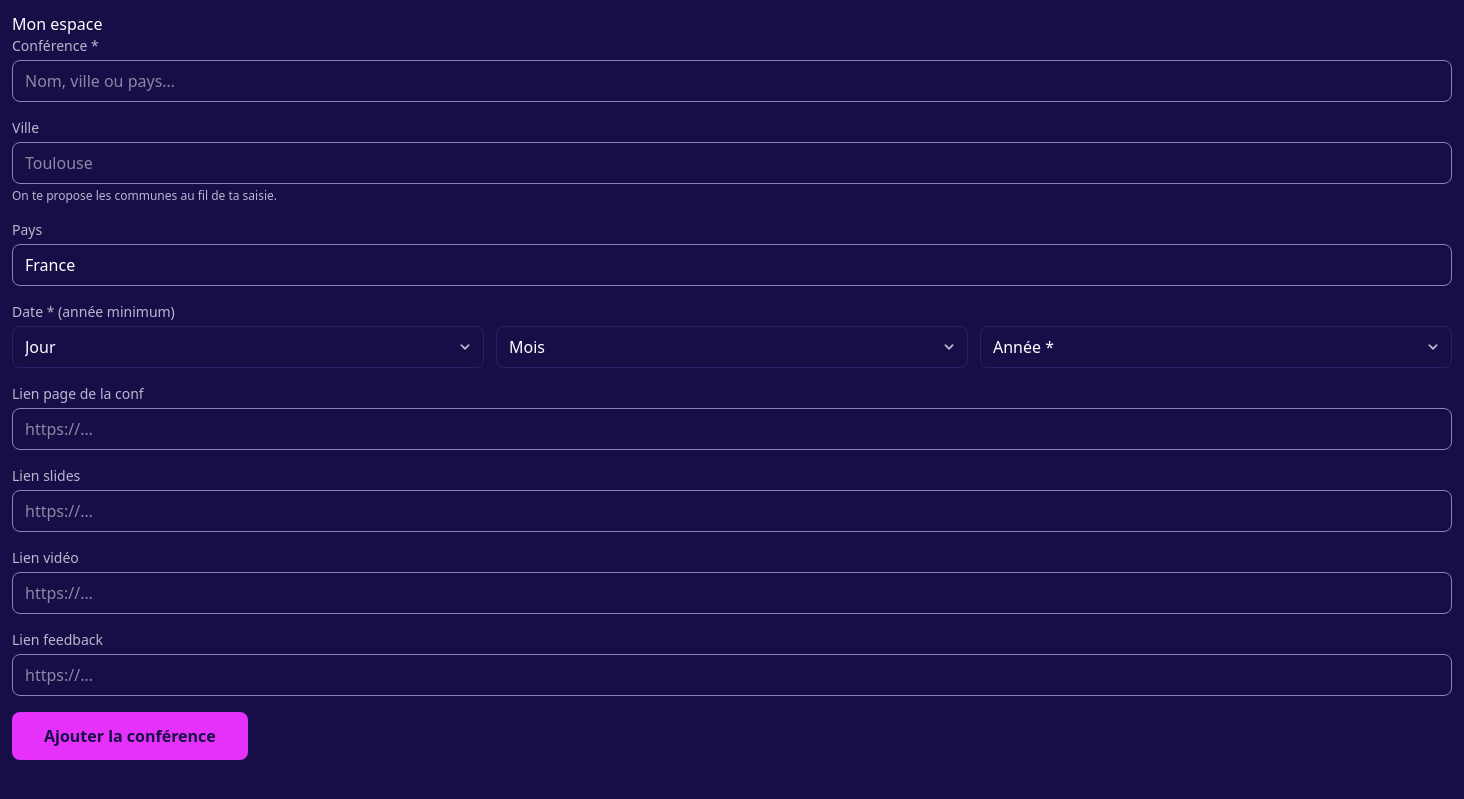
it: a11y (axe) — surfaces connectées de l'espace › OccurrenceForm (conférence hors registre : le champ nom est ouvert)
The image size is (1464, 799).
Click the dropdown labelled "Conférence *".
click(732, 81)  # box [12,60,1452,102]
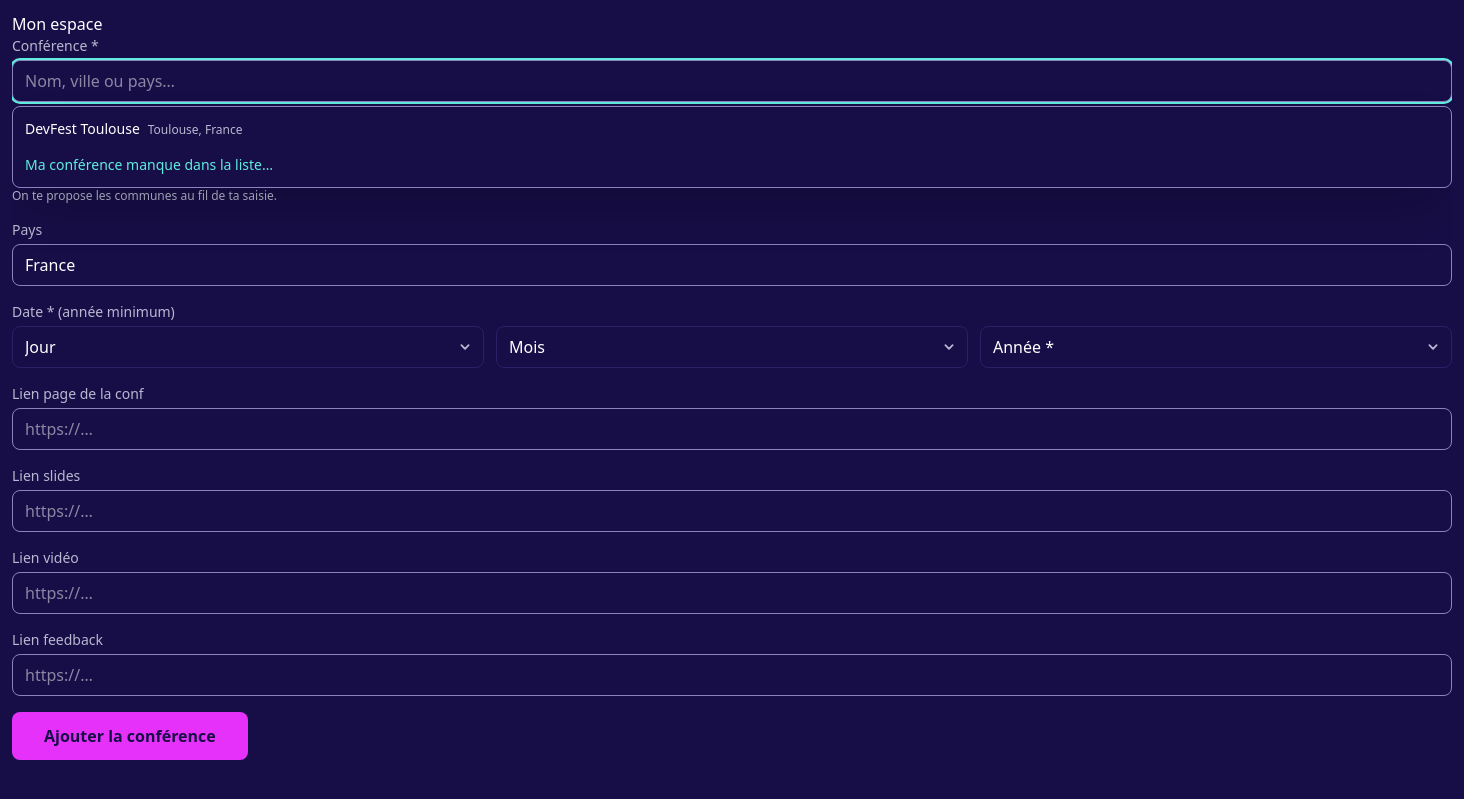
Click the option "Ma conférence manque dans la liste…".
click(149, 164)  # box [25,155,273,174]
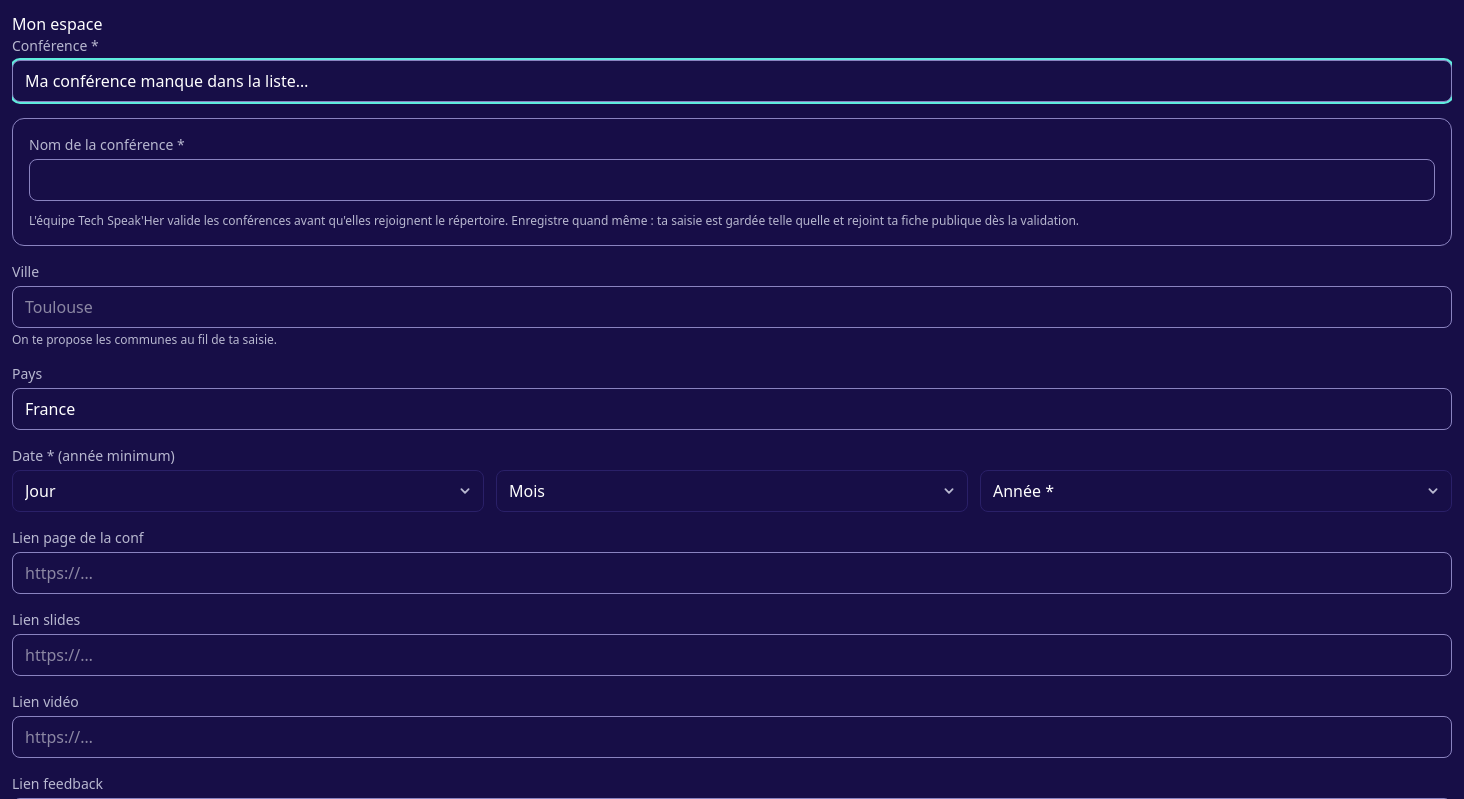
Now the field labelled "Nom de la conférence *" is shown, box [29,159,1435,201]
